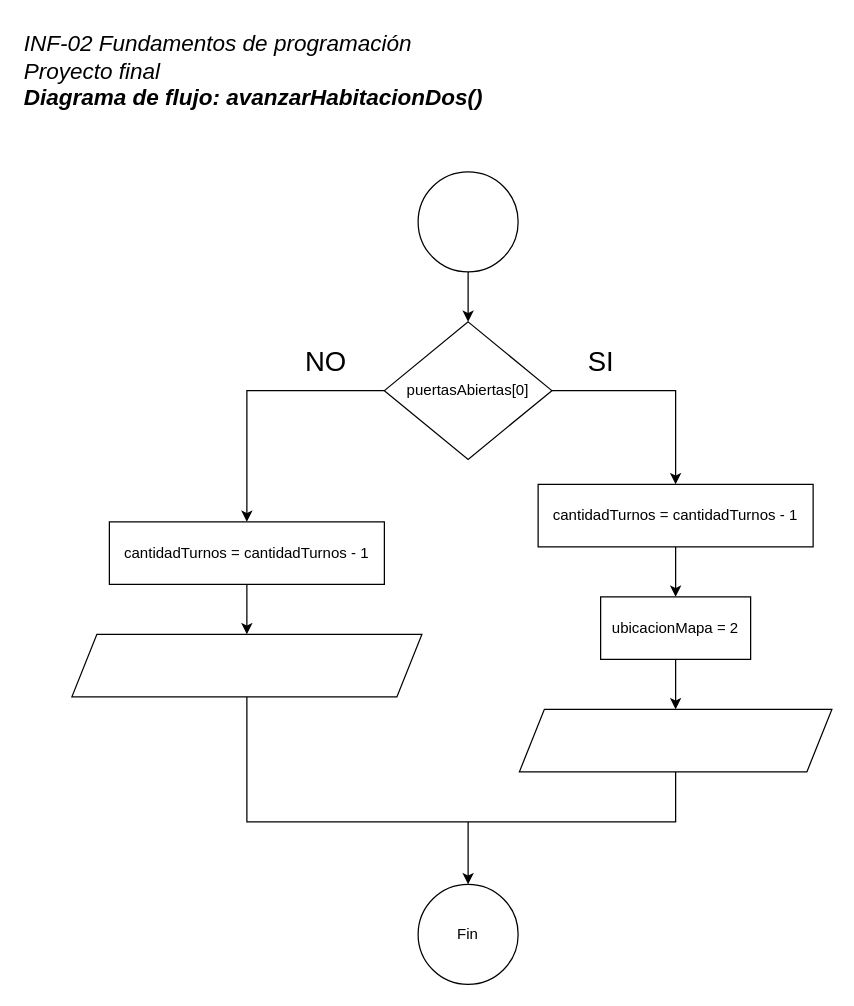
This 854x1006 diagram has some shape labels left out. Each missing label, with the box of its shape:
Imprimir "Avanzaste a la habitación #2": (518, 708, 832, 772)
Imprimir "La puerta está cerrada, no puedes avanzar a la habitación #2": (71, 633, 422, 697)
Inicio: (417, 171, 518, 272)
